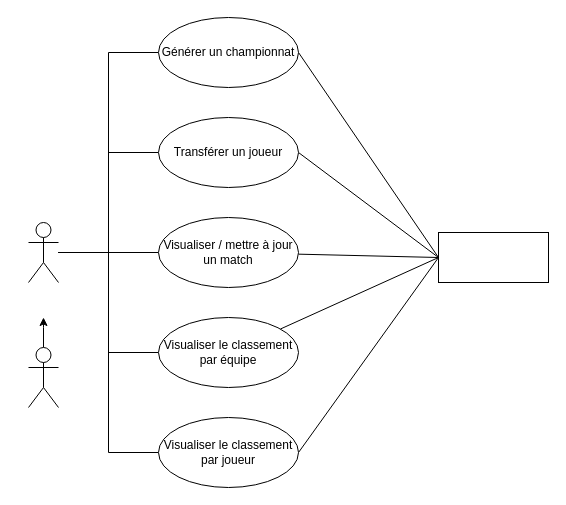
This 566x505 diagram has some shape labels left out. Each missing label, with the box of its shape:
Backend: (28, 346, 58, 408)
Base de données: (438, 232, 548, 282)
Utilisateur: (28, 222, 58, 282)
